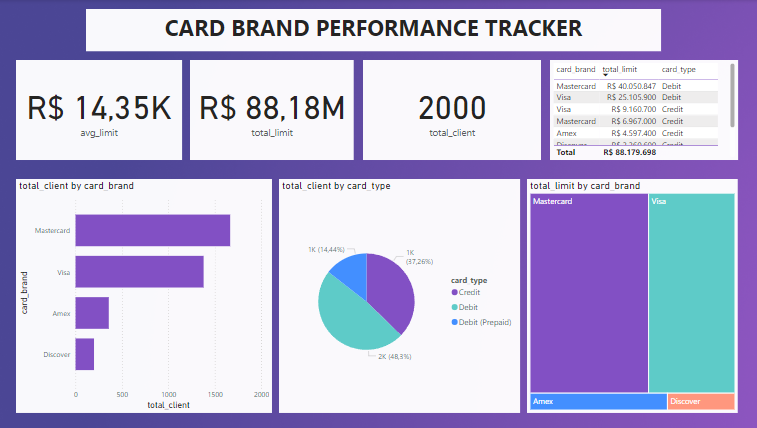

What the dashboard file says about the page in this screenshot:
{"tool":"powerbi","page":{"name":"Page 2","canvas":[1280,720],"ordinal":0},"visuals":[{"type":"barChart","title":"Total Limit by Card Type","fields":{"Y":["view_financial_data.total_limit"],"Category":["view_financial_data.card_type"]},"box":[893.2,397.3,352.7,294.6],"z":0},{"type":"textbox","box":[0,16.2,573,71.6],"z":1},{"type":"donutChart","fields":{"Category":["view_financial_data.card_brand"],"Y":["view_financial_data.total_client"]},"box":[832.4,221.6,360.8,159.5],"z":2},{"type":"card","fields":{"Values":["view_financial_data.avg_limit"]},"box":[573,156.8,185.1,91.9],"z":3},{"type":"donutChart","title":"Total Client by Card Type","fields":{"Y":["view_financial_data.total_client"],"Series":["view_financial_data.card_type"]},"box":[832.4,52.7,387.8,150],"z":4},{"type":"card","fields":{"Values":["view_financial_data.total_limit"]},"box":[573,248.6,191.9,83.8],"z":5},{"type":"card","fields":{"Values":["view_financial_data.total_client"]},"box":[586.5,52.7,143.2,114.9],"z":6},{"type":"clusteredColumnChart","title":"Total Limit by Card Brand","fields":{"Category":["view_financial_data.card_brand"],"Y":["view_financial_data.total_limit"]},"box":[498.6,397.3,375.7,294.6],"z":7}]}

Visuals, with their boxes in screenshot pixels (x1, y1, x2, y2), scaled from the page's 1280x720 canvas onto the 757x428 screenshot:
"Total Limit by Card Type" barChart: 528/236/737/411
textbox: 0/10/339/52
donutChart - view_financial_data.card_brand x view_financial_data.total_client: 492/132/706/227
card - view_financial_data.avg_limit: 339/93/448/148
"Total Client by Card Type" donutChart: 492/31/722/120
card - view_financial_data.total_limit: 339/148/452/198
card - view_financial_data.total_client: 347/31/432/100
"Total Limit by Card Brand" clusteredColumnChart: 295/236/517/411
